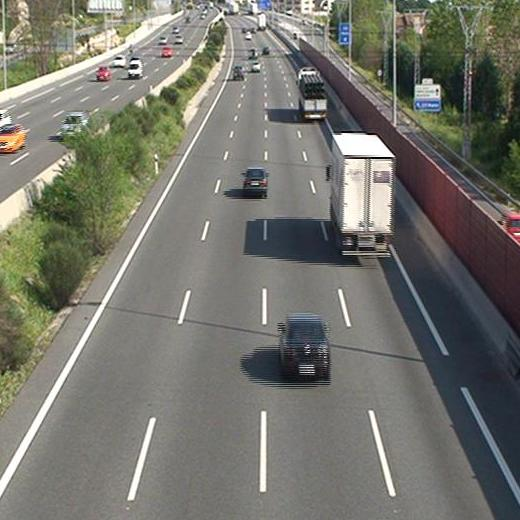car: (281, 317, 329, 374), (243, 169, 267, 193), (233, 65, 245, 78), (251, 61, 260, 70)
truck: (331, 135, 395, 256), (297, 70, 326, 117)
